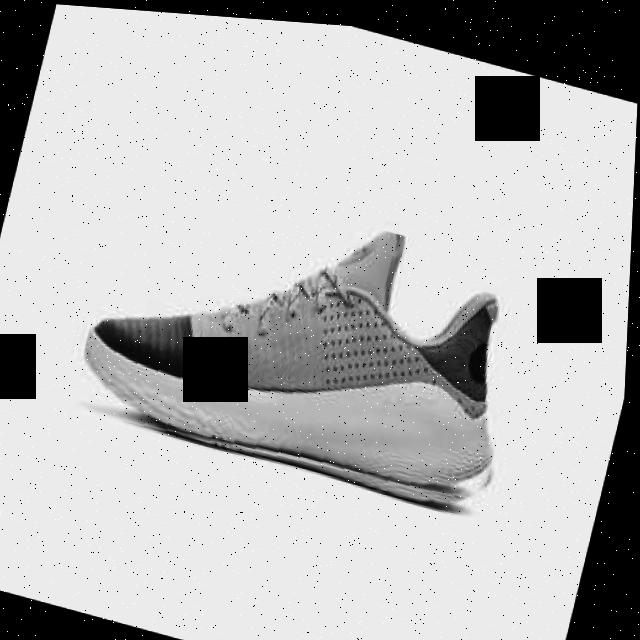shoe: (71, 157, 546, 516)
